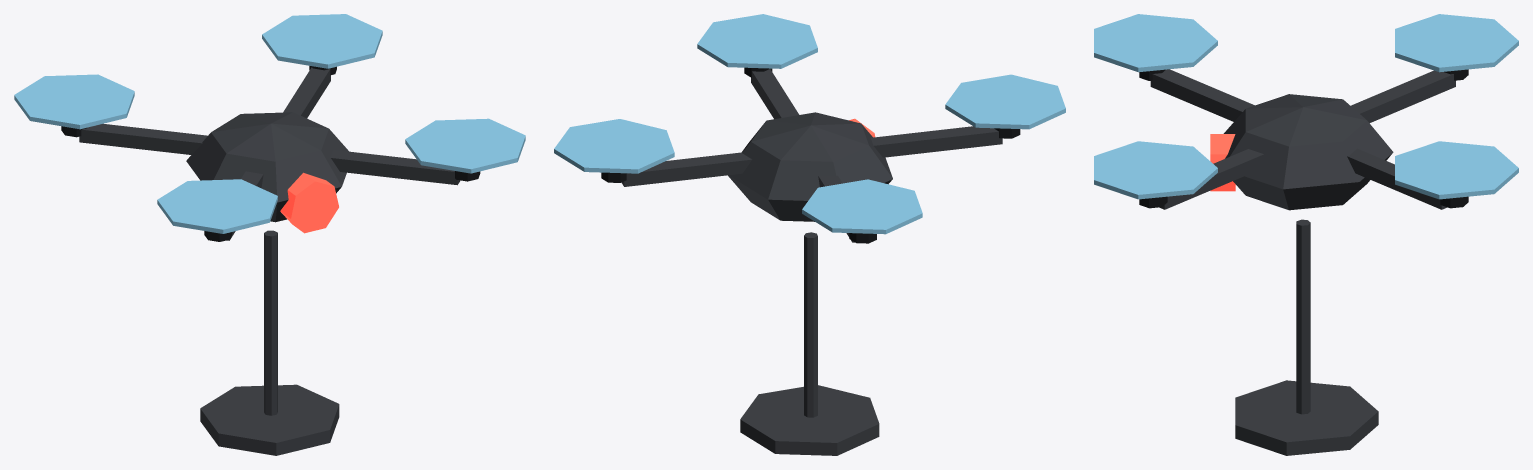
File: drone-lod1.glb
3 renders of one model, left to right at view 1: azimuth 30°, elevation 25°; view 2: azimuth 150°, elevation 25°; view 3: azimuth 270°, elevation 25°, orthographic. The views are drawn at different scales.
Visible parts, largest first — view 1: drone; view 2: drone; view 3: drone.
Part boxes in pixels (x1,y1,x2,y2): drone: (14,14,525,455); drone: (554,14,1065,455); drone: (1094,14,1518,455).
Bounding box in the file's own units: 0.8535 × 0.71 × 0.8471.
